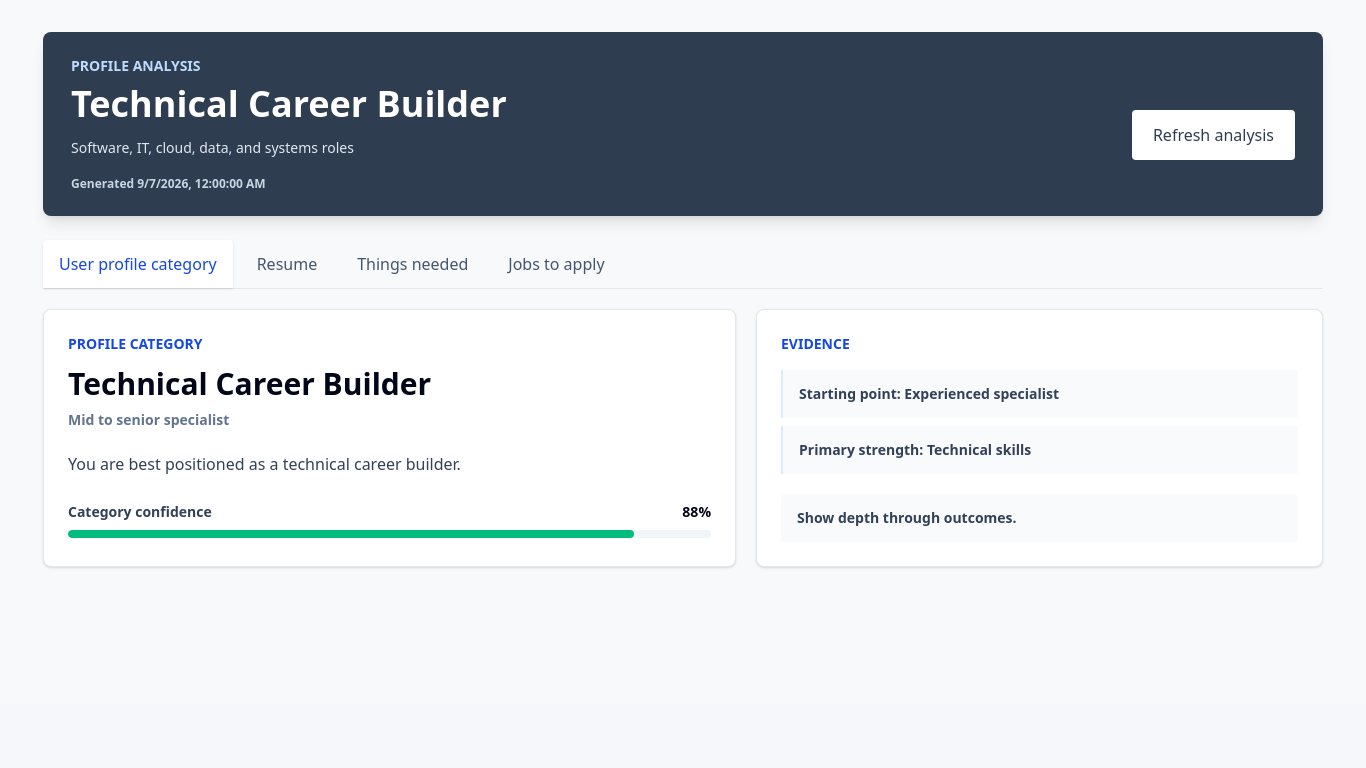
Scenario: CareerProfileAnalysisPage › shows saved analysis across profile, resume, needs, and jobs tabs
expect the number of headings "Technical Career Builder" is 2: met, box x1=71 y1=84 x2=507 y2=124; x1=68 y1=363 x2=431 y2=404
Click the button "Resume". click: (287, 264)
box: x1=241 y1=240 x2=333 y2=288
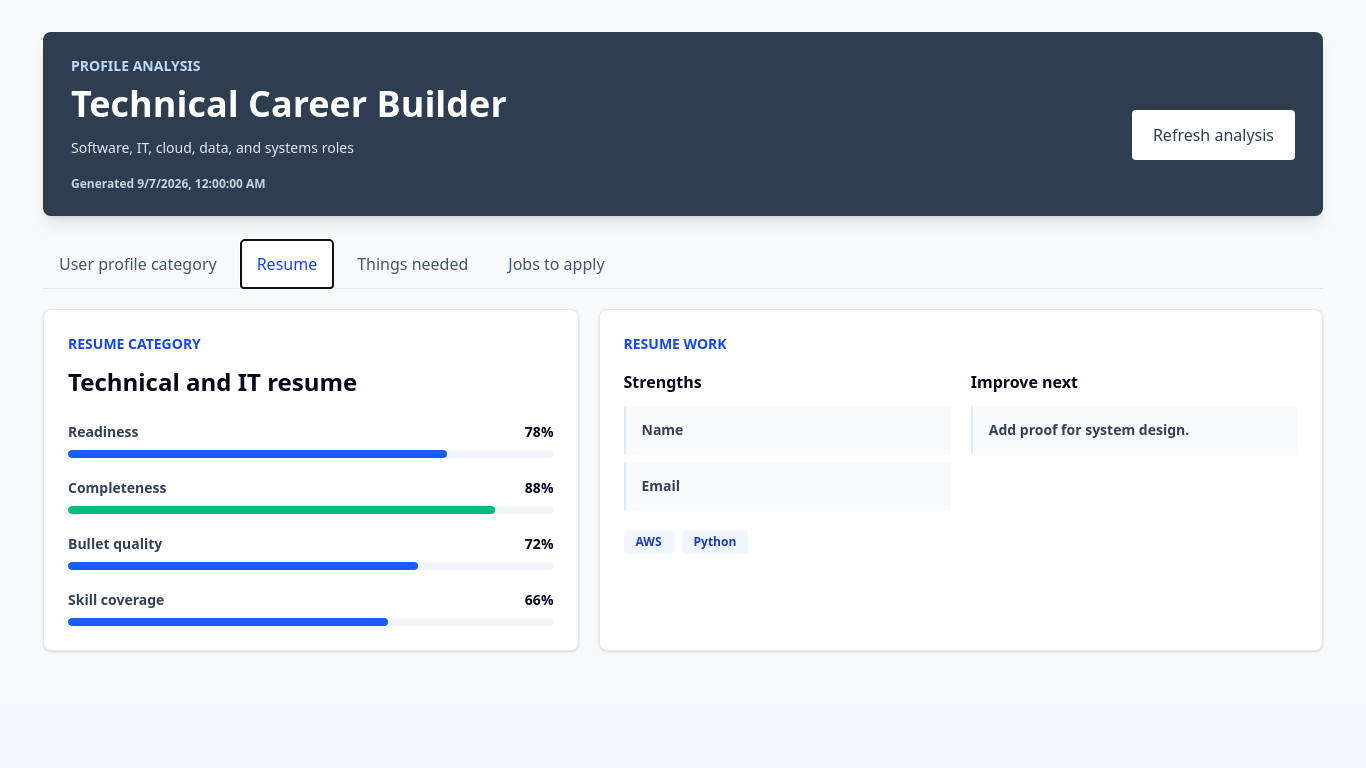
expect the heading "Technical and IT resume" is shown: met, box x1=68 y1=365 x2=357 y2=398
expect the list item "Add proof for system design." is shown: met, box x1=971 y1=406 x2=1298 y2=454
Click the button "Things needed". click: (413, 264)
box: x1=341 y1=240 x2=484 y2=288
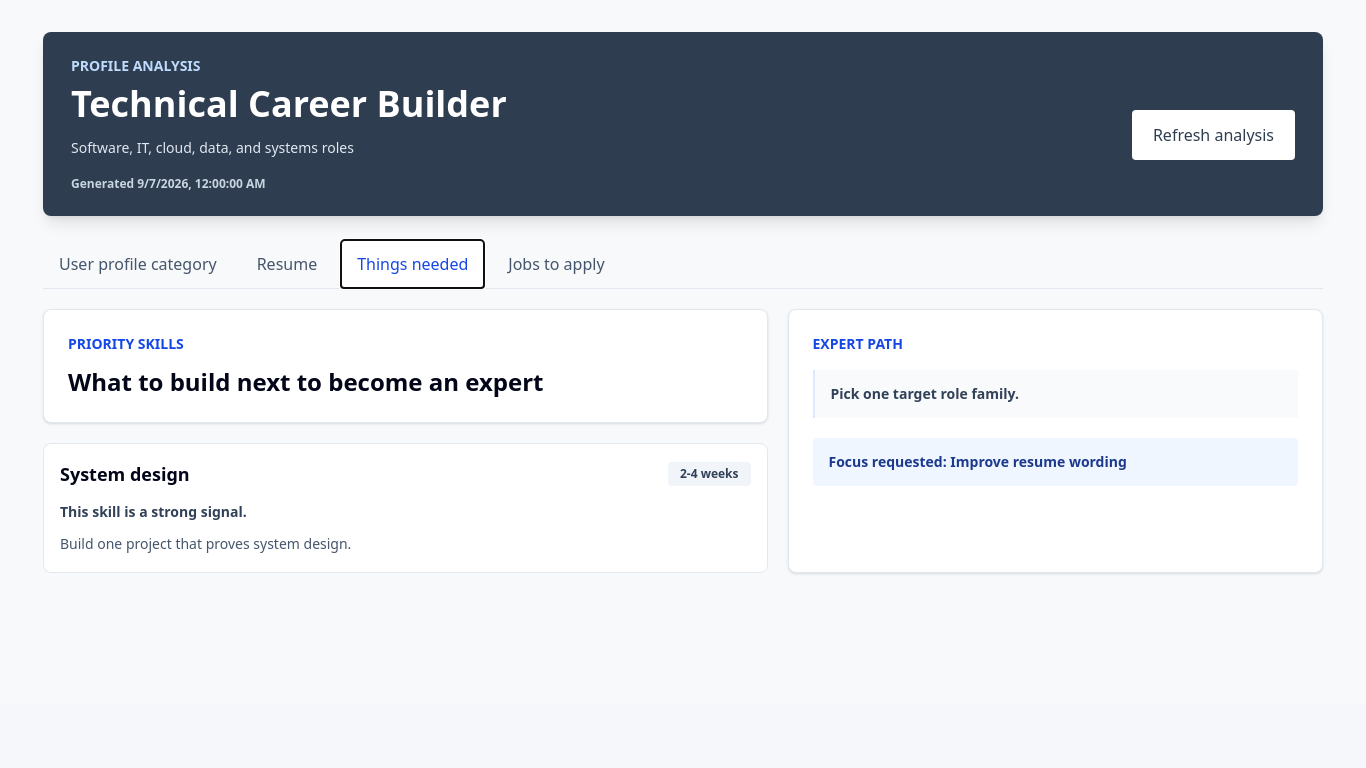
expect the heading "What to build next to become an expert" is shown: met, box x1=68 y1=365 x2=544 y2=398
expect the heading "System design" is shown: met, box x1=60 y1=460 x2=190 y2=488
Click the button "Jobs to apply". click: (556, 264)
box: x1=492 y1=240 x2=621 y2=288
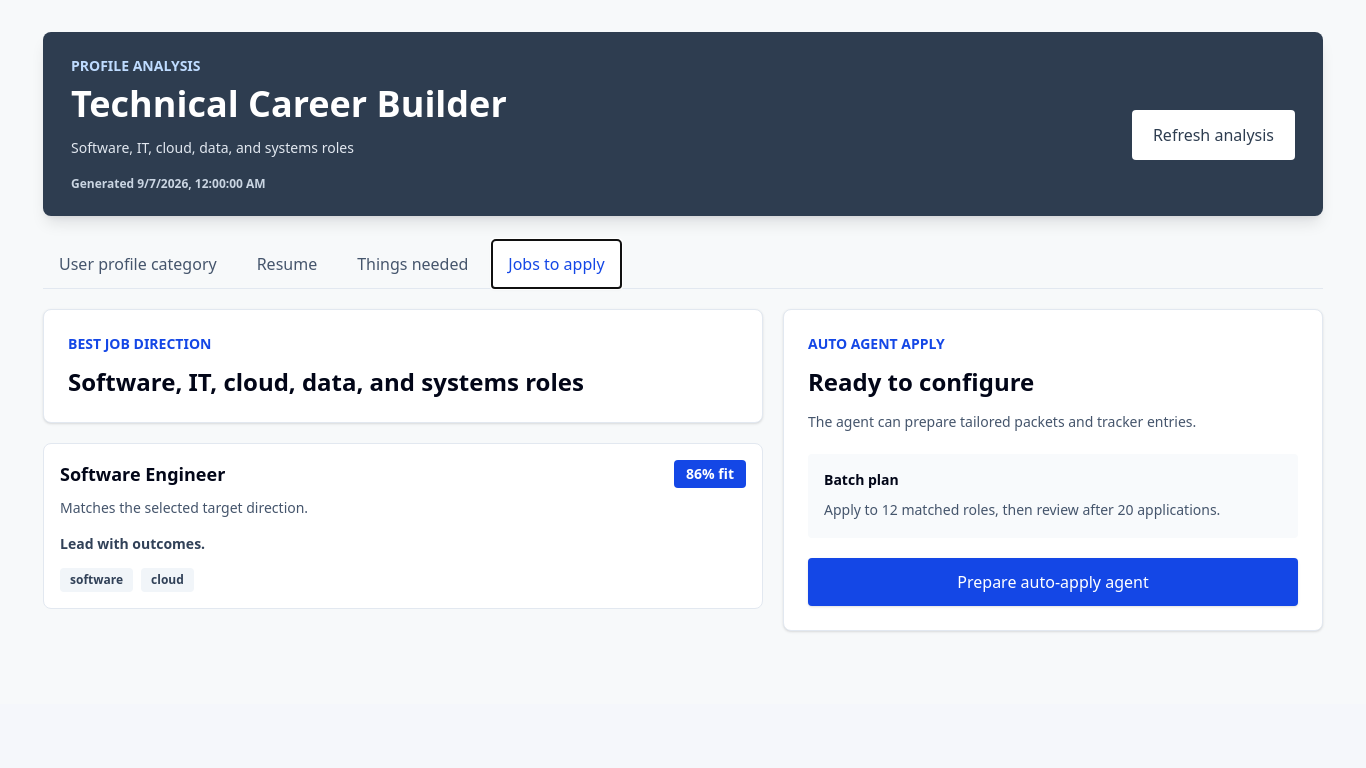
expect the heading "Software, IT, cloud, data, and systems roles" is shown: met, box x1=68 y1=365 x2=584 y2=398
Click the button "Prepare auto-apply agent". click: (1053, 582)
box: x1=808 y1=558 x2=1298 y2=606
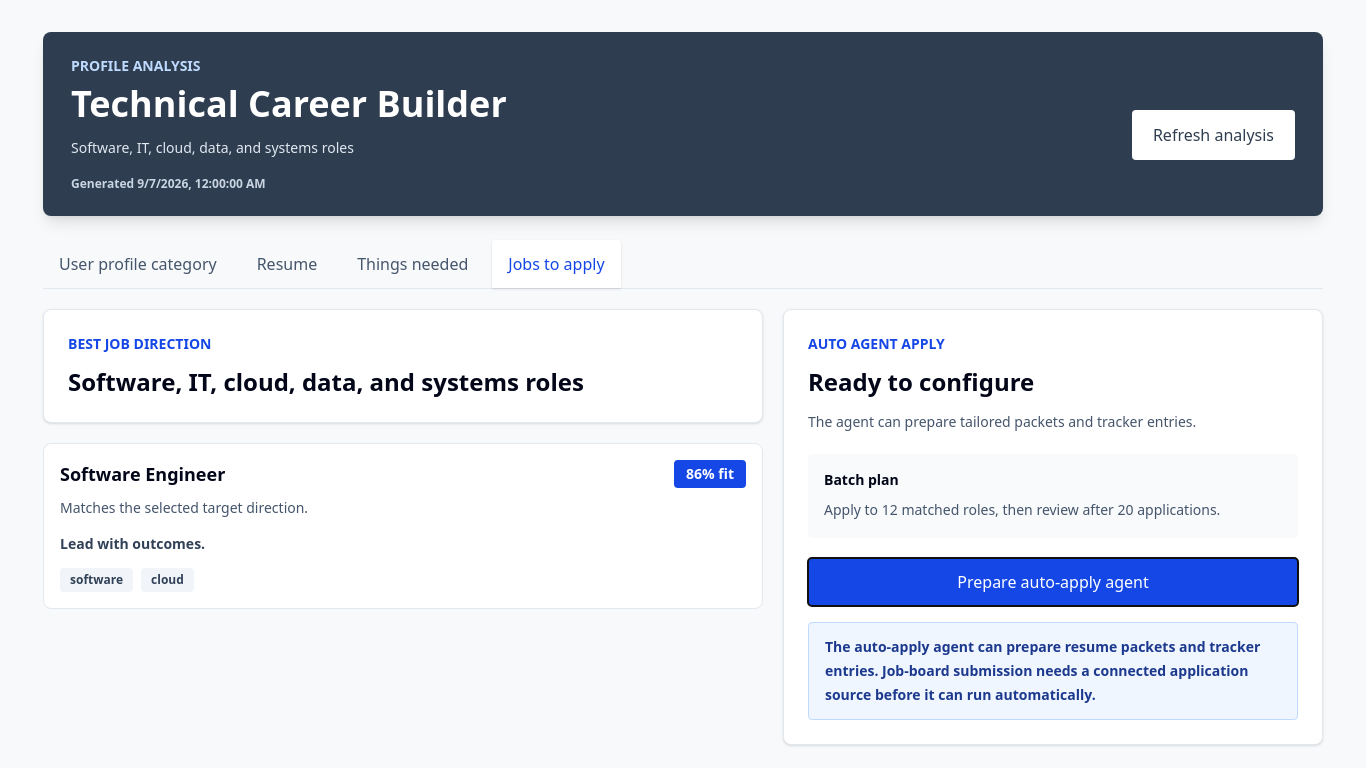
expect the text "Job-board submission needs a connected application source" is shown: met, box x1=825 y1=637 x2=1260 y2=704
